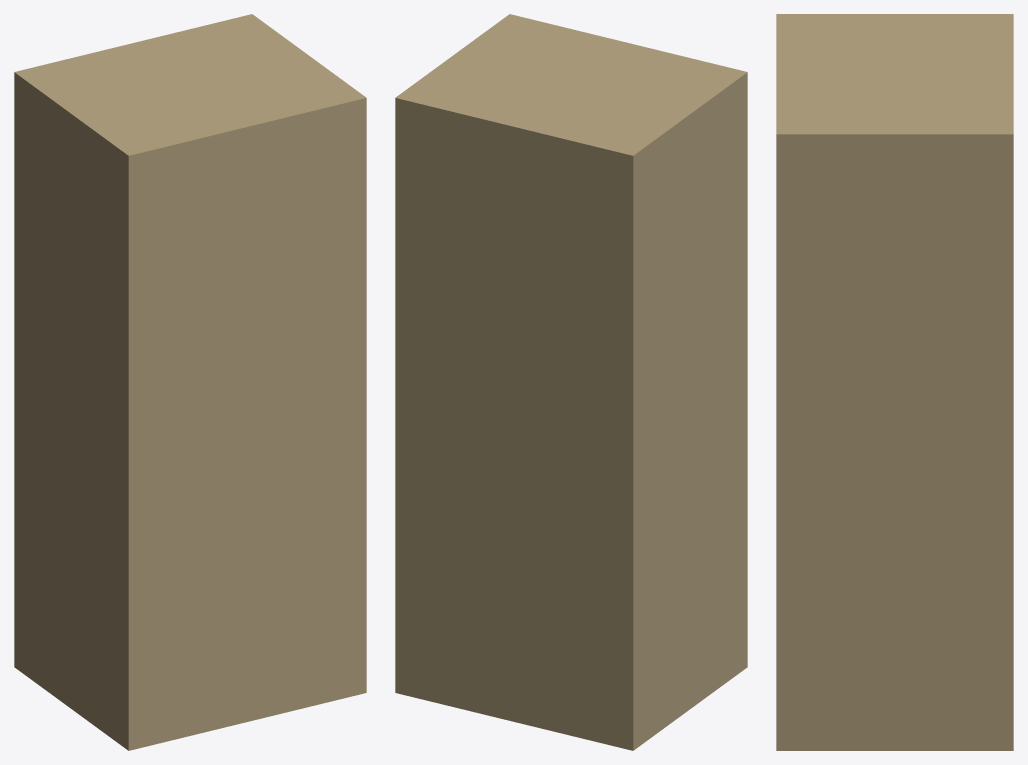
File: race_gate_collision_0.fbx
The picture shows the model from 3 angles, left to right: view 1: azimuth 30°, elevation 25°; view 2: azimuth 150°, elevation 25°; view 3: azimuth 270°, elevation 25°; orthographic projection. The views are drawn at different scales.
Visible parts, largest first — view 1: Pier collider.002; view 2: Pier collider.002; view 3: Pier collider.002.
Boxes of the visible parts, left/top/right/bottom form: Pier collider.002: left=14, top=14, right=366, bottom=750; Pier collider.002: left=395, top=14, right=747, bottom=750; Pier collider.002: left=776, top=14, right=1013, bottom=750.
Size of the model in its own units: 18000 by 15000 by 43000.
